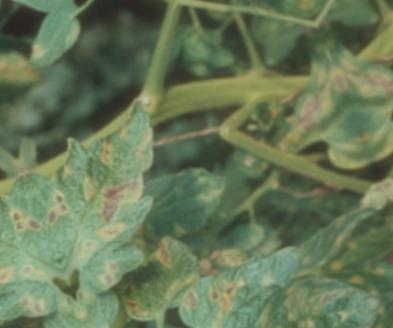Tomato mold leaf: (8, 83, 219, 328), (143, 209, 393, 328), (8, 0, 103, 75), (204, 0, 296, 4)
